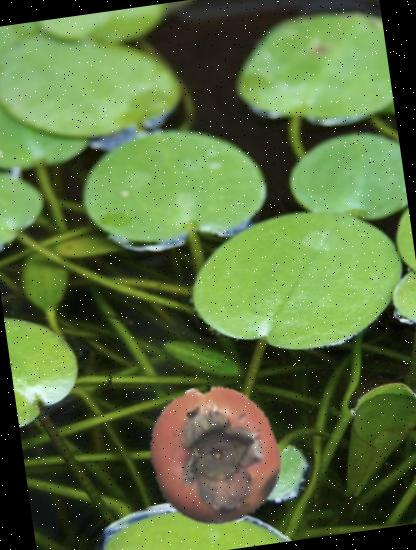Kaki: (135, 376, 294, 535)
